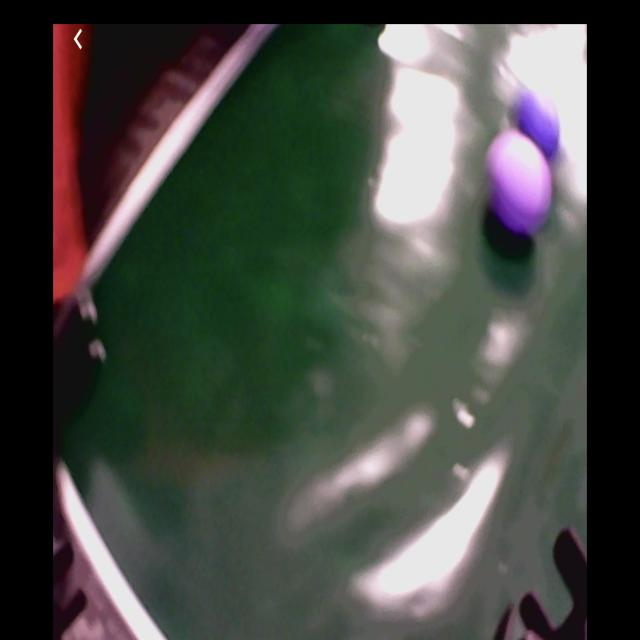ball: (488, 132, 554, 237), (516, 91, 567, 151)
